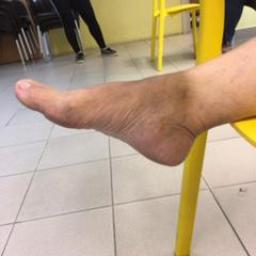Medial View -Right Foot-: (4, 42, 239, 178)
